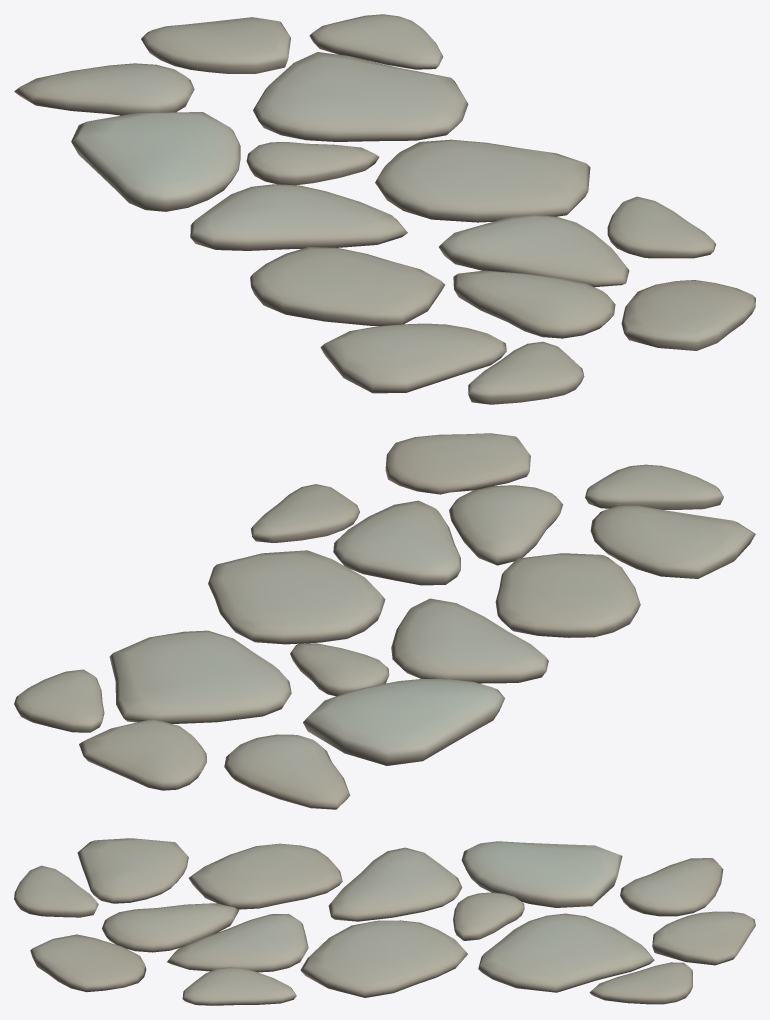
The model's file is stone-road-droite.glb.
3 views of the same model, one above another, from view 1: azimuth 30°, elevation 25°; view 2: azimuth 150°, elevation 25°; view 3: azimuth 270°, elevation 25° (orthographic). The views are drawn at different scales.
Parts seen in each view (by area): view 1: Stone_road; view 2: Stone_road; view 3: Stone_road.
Part boxes in pixels (box(x1,y1,x2,y2)): Stone_road: box(14, 14, 755, 404); Stone_road: box(14, 433, 755, 809); Stone_road: box(14, 838, 755, 1005).
Bounding box in the file's own units: 1.8 × 0.0959 × 3.52.
1 material, 1 textured.
